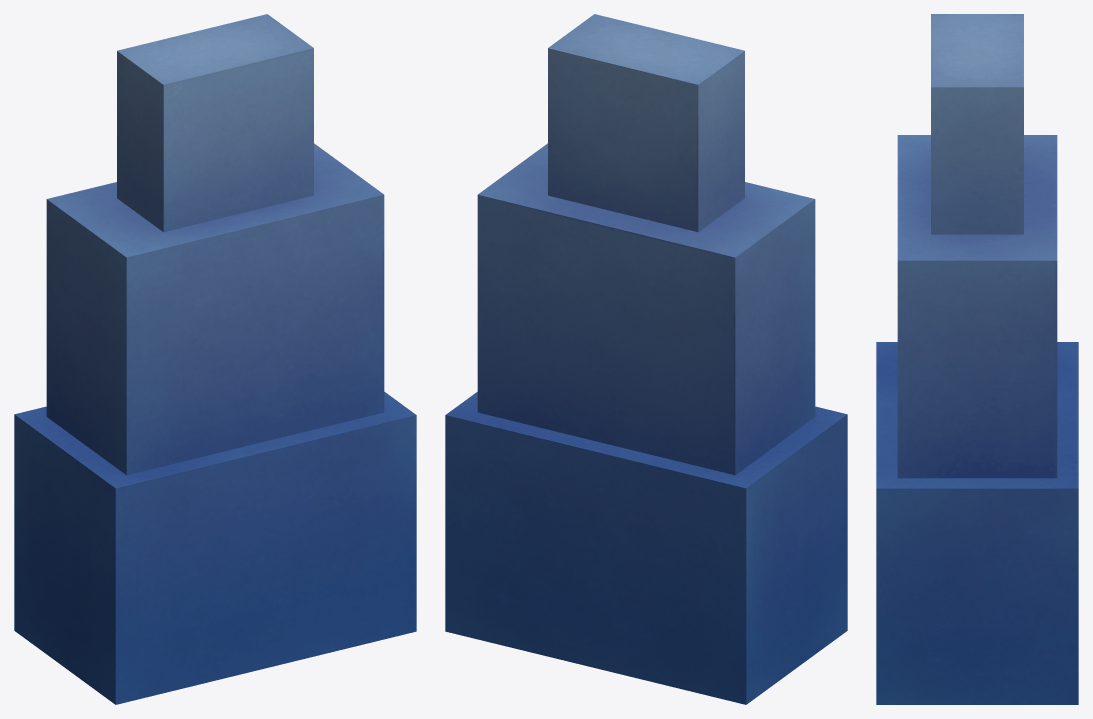
Rendered from Palace_5.glb.
The picture shows the model from 3 angles, left to right: view 1: azimuth 30°, elevation 25°; view 2: azimuth 150°, elevation 25°; view 3: azimuth 270°, elevation 25°; orthographic projection.
Parts seen in each view (by area): view 1: Palace_5; view 2: Palace_5; view 3: Palace_5.
Part boxes in pixels (x1=…): Palace_5: x1=14, y1=14, x2=416, y2=704; Palace_5: x1=445, y1=14, x2=847, y2=704; Palace_5: x1=876, y1=14, x2=1078, y2=704.
Size of the model in its own units: 0.959 by 1.77 by 0.5594.
Materials: 1 (1 with a texture image).
